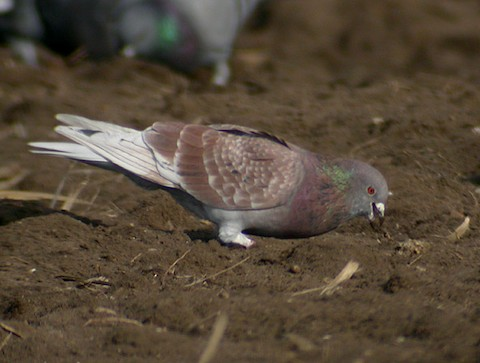pigeon: (22, 102, 396, 255)
